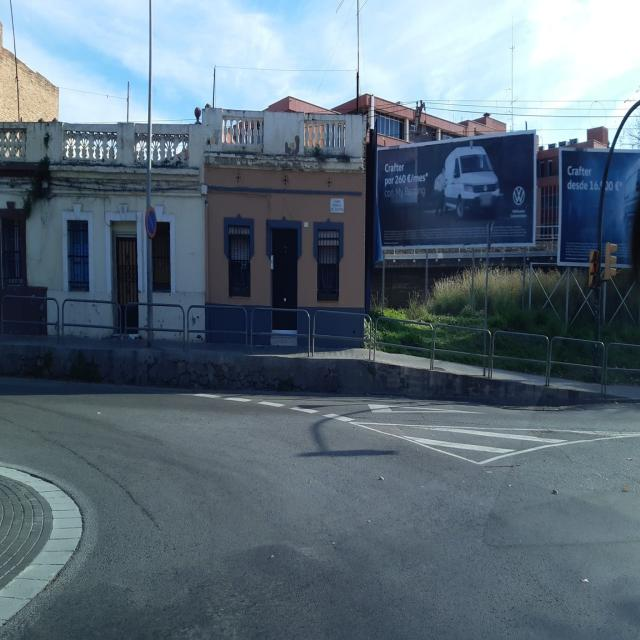forb_stopping: (147, 209, 157, 236)
